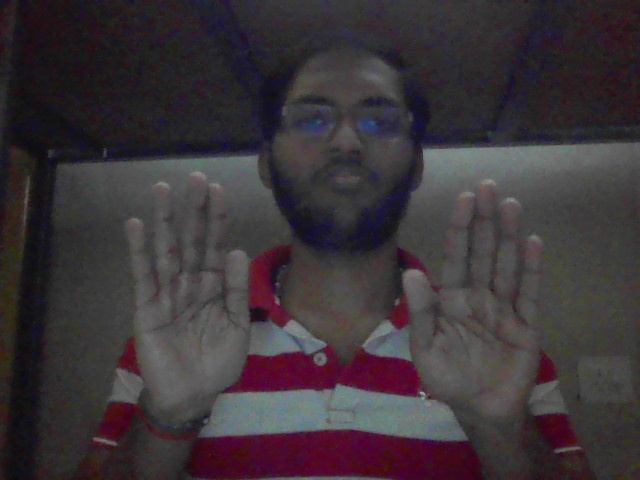God_Bless_You: (118, 166, 609, 480)
